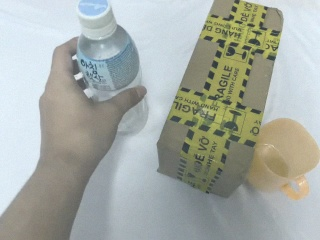bottle: (72, 1, 141, 100)
box: (155, 1, 283, 199)
cup: (245, 118, 320, 201)
